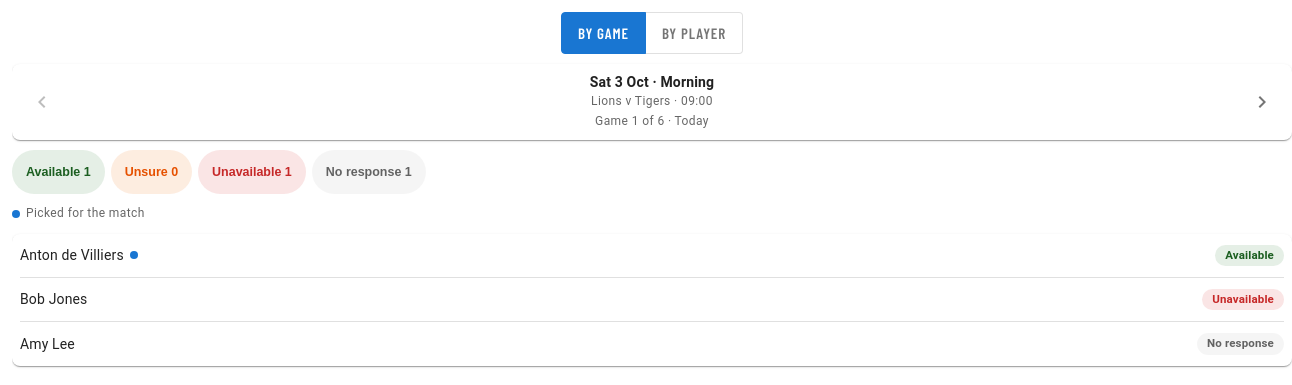
Scenario: PlayersPhoneLists › switch and By game › says so when a chosen answer has nobody
Click the button "Unsure 0" at (151, 172), box x1=111 y1=150 x2=192 y2=194
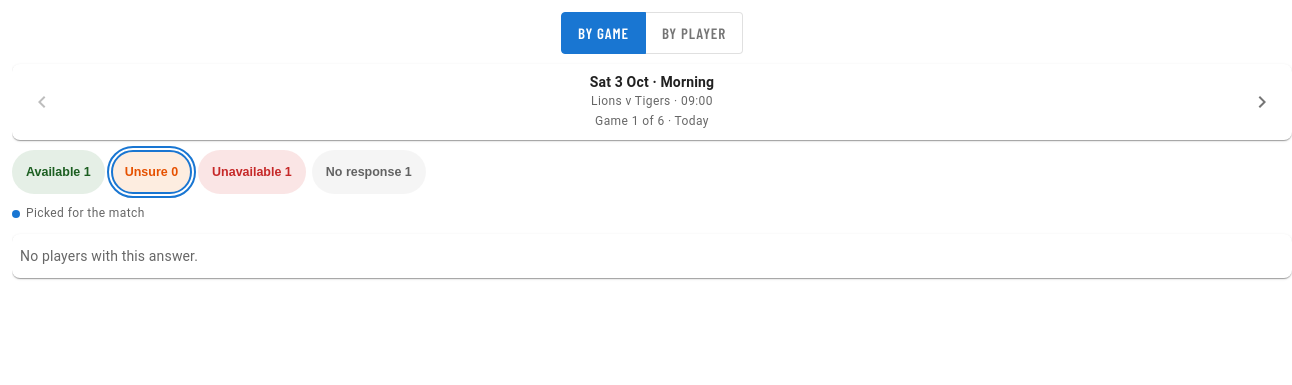
Result: the text "No players with this answer." is shown at x1=20 y1=248 x2=198 y2=264
